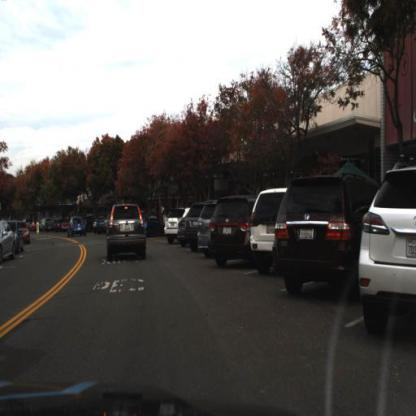car: (274, 169, 373, 298), (359, 162, 416, 343), (246, 183, 289, 279), (248, 182, 285, 281), (209, 191, 254, 269), (104, 202, 150, 264), (162, 205, 188, 245), (2, 220, 20, 263), (66, 213, 91, 242), (11, 221, 25, 257), (179, 218, 185, 246)
